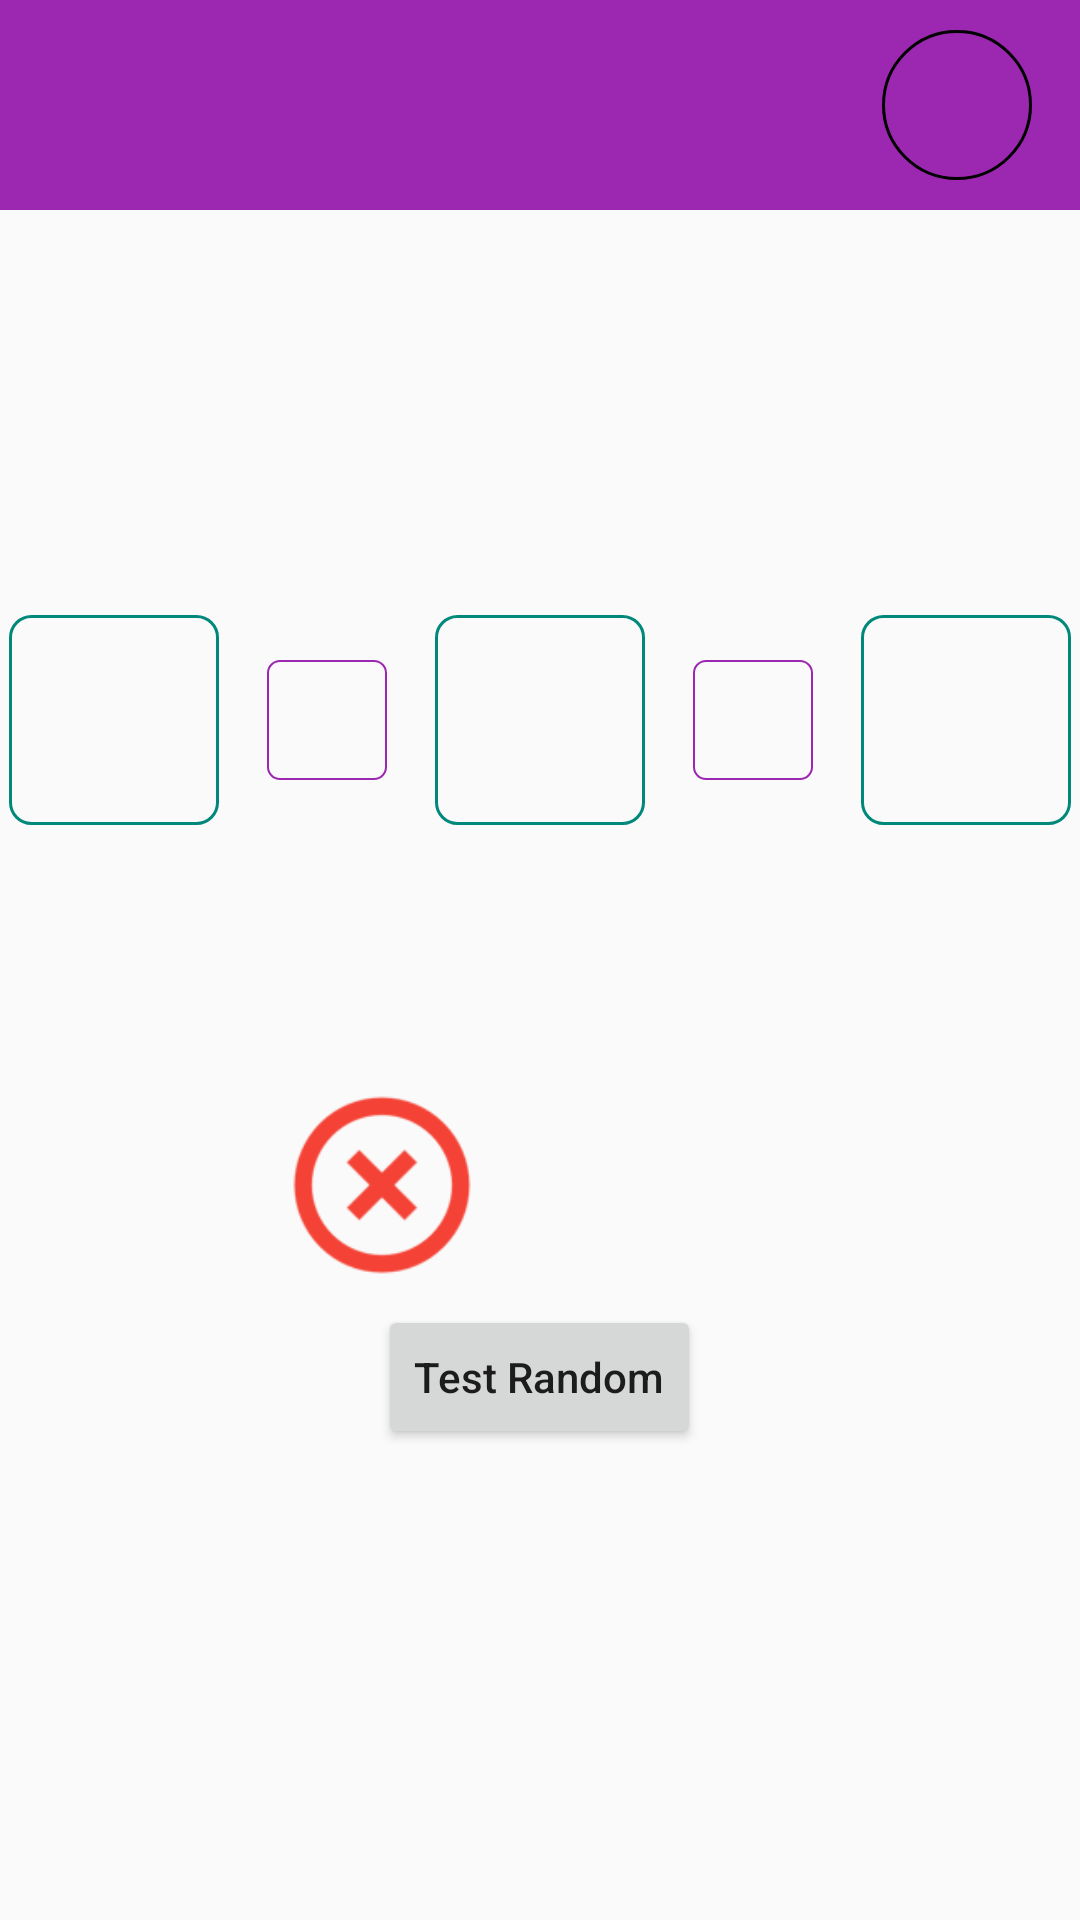

Named icons in this screenshot (1080x1920) and their centers, point (x, y):
wrong circle: point (382, 1185)
